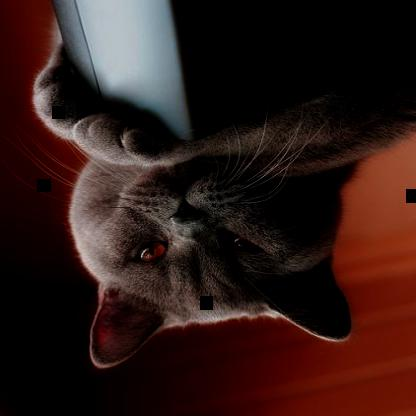cat: (32, 24, 416, 370)
